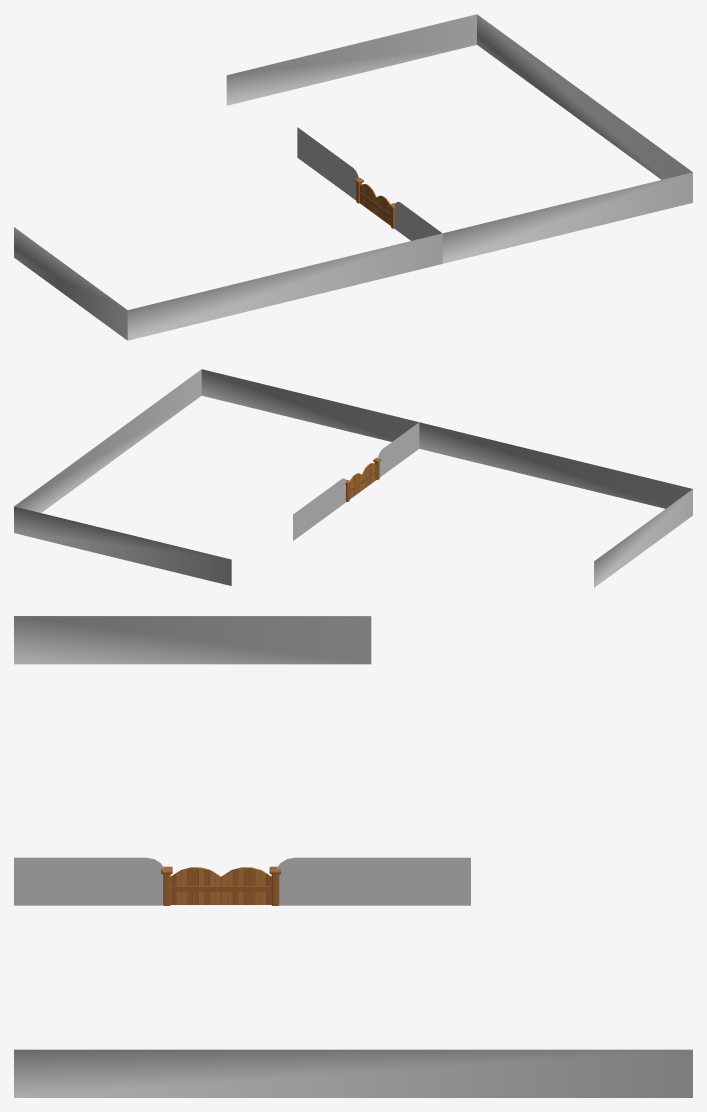
File: Fence out .fbx
3 renders of one model, top to bottom at view 1: azimuth 30°, elevation 25°; view 2: azimuth 150°, elevation 25°; view 3: azimuth 270°, elevation 25°, orthographic. The views are drawn at different scales.
Parts seen in each view (by area): view 1: Fence Out; view 2: Fence Out; view 3: Fence Out, Door_2, Door_1, Frame.
Boxes of the visible parts, x1,y1,x2,y2 form: Fence Out: [14, 14, 692, 340]; Fence Out: [14, 369, 692, 587]; Fence Out: [14, 616, 692, 1097]; Door_2: [170, 867, 221, 904]; Door_1: [221, 867, 271, 904]; Frame: [161, 866, 281, 905].
Bounding box in the file's own units: 8846 × 457 × 5853.
Materials: 1 (1 with a texture image).
